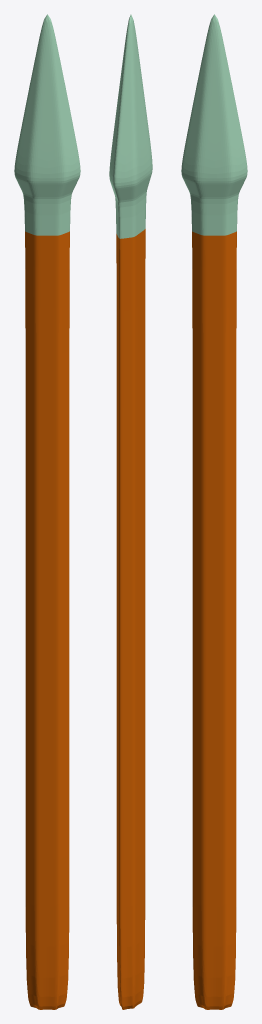
Rendered from SpearModel.fbx.
The picture shows the model from 3 angles, left to right: view 1: azimuth 90°, elevation 25°; view 2: azimuth 150°, elevation 25°; view 3: azimuth 270°, elevation 25°; orthographic projection.
Visible parts, largest first — view 1: Cylinder; view 2: Cylinder; view 3: Cylinder.
Boxes of the visible parts, box(x1,y1,x2,y2) form: Cylinder: box(14, 14, 80, 1009); Cylinder: box(109, 14, 152, 1009); Cylinder: box(181, 14, 247, 1009).
Size of the model in its own units: 4.95 by 170 by 10.28.
